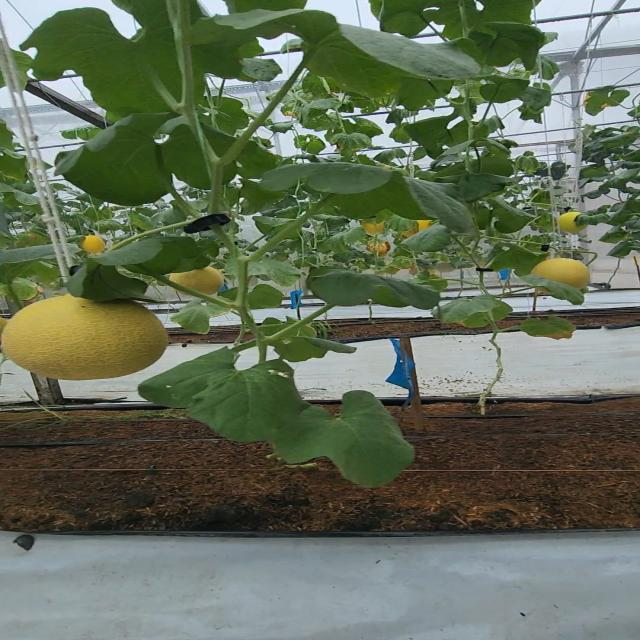Melon: (6, 289, 178, 383)
